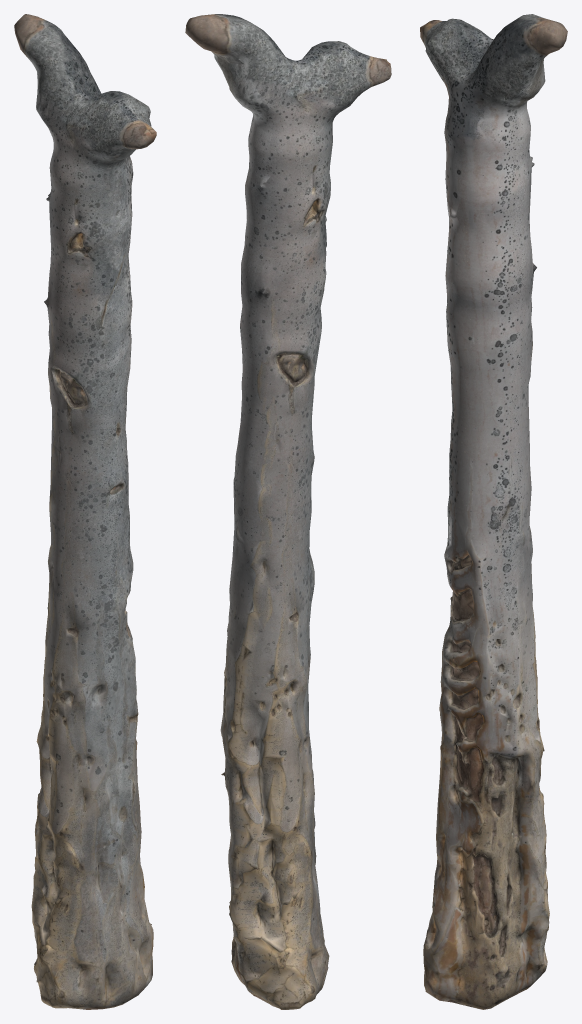
The model's file is dead_quiver_trunk.glb.
The picture shows the model from 3 angles, left to right: view 1: azimuth 90°, elevation 25°; view 2: azimuth 150°, elevation 25°; view 3: azimuth 270°, elevation 25°; orthographic projection. The views are drawn at different scales.
Visible parts, largest first — view 1: dead_quiver_trunk_LOD0; view 2: dead_quiver_trunk_LOD0; view 3: dead_quiver_trunk_LOD0.
Boxes of the visible parts, bbox=[...] form: dead_quiver_trunk_LOD0: bbox=[14, 14, 156, 1009]; dead_quiver_trunk_LOD0: bbox=[185, 14, 391, 1009]; dead_quiver_trunk_LOD0: bbox=[420, 14, 567, 1009].
Bounding box in the file's own units: 0.3065 × 1.99 × 0.268.
1 material, 1 textured.
